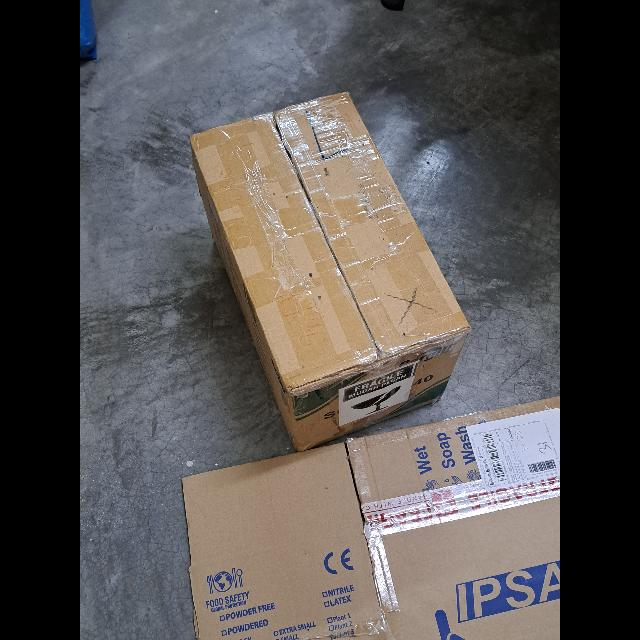papelão: (188, 90, 472, 454), (182, 394, 560, 640)
